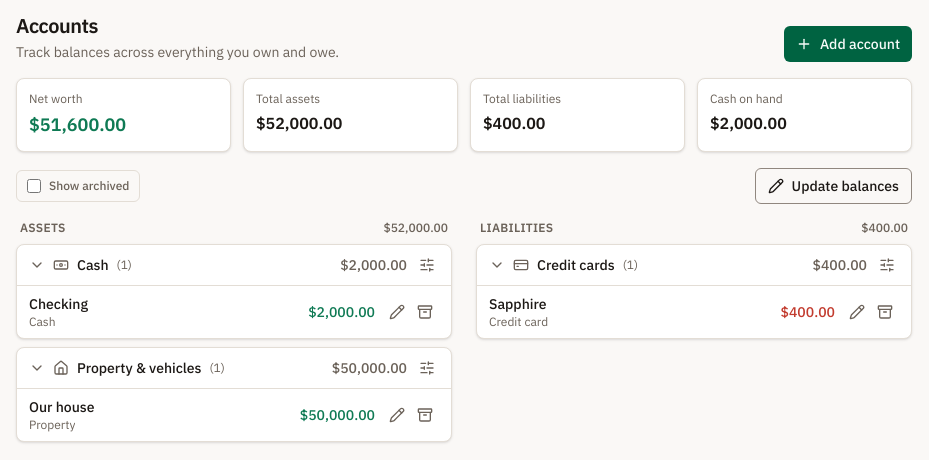
Test case: a section collapses when its header is clicked
Expected: the text "Checking" is shown, [29,294,88,314]
Click the button with aria-label "Cash section".
click(93, 265)  # box [29,255,332,275]
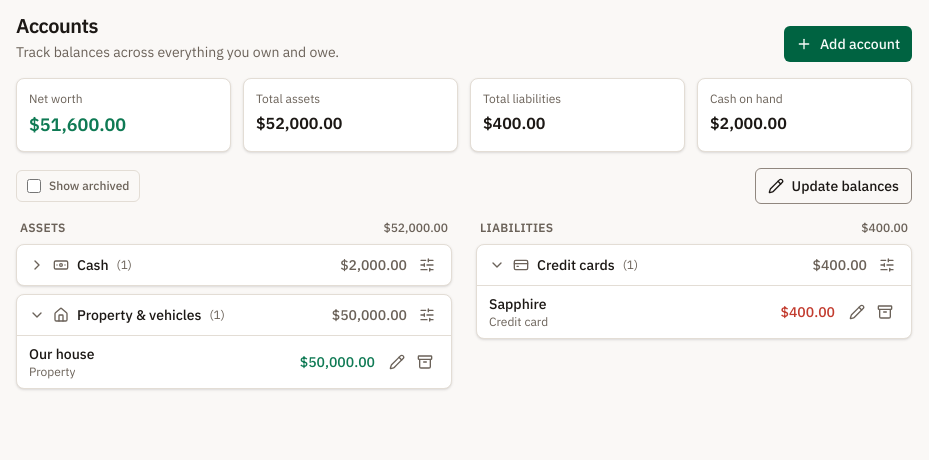
Expected: the button "Checking" is gone
